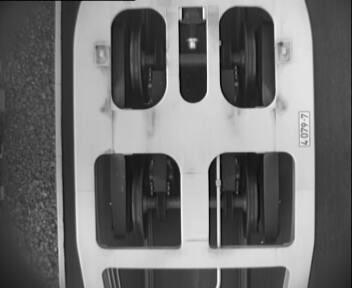wagon_scan: (105, 2, 283, 115)
